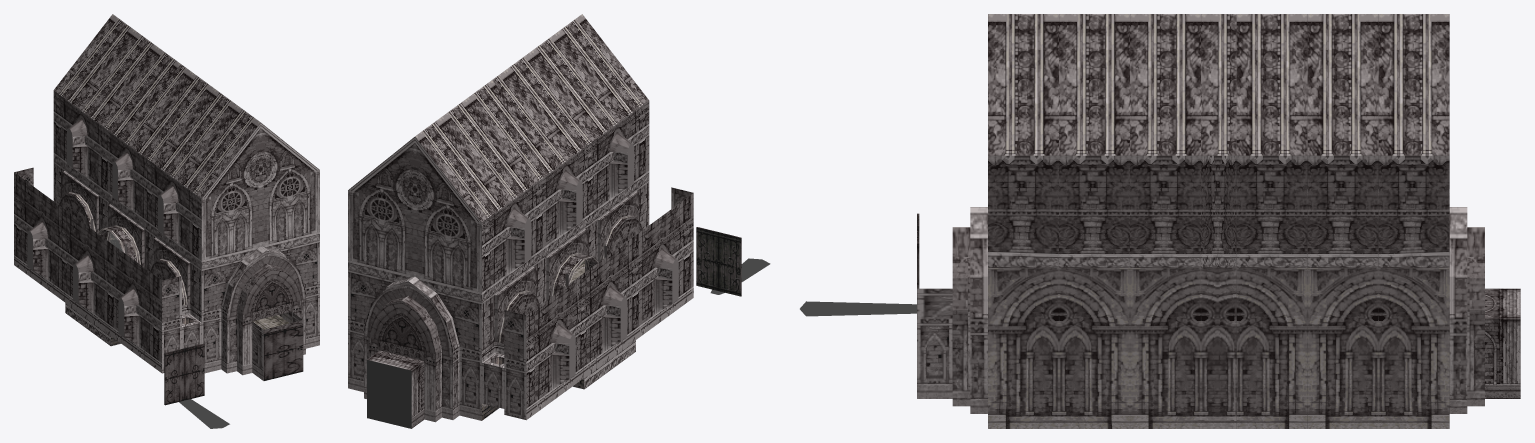
The model's file is MAP104.obj.
3 views of the same model, side by side, from view 1: azimuth 30°, elevation 25°; view 2: azimuth 150°, elevation 25°; view 3: azimuth 270°, elevation 25° (orthographic). The views are drawn at different scales.
Visible parts, largest first — view 1: mesh_23, mesh_18, mesh_25, mesh_26, mesh_24, mesh_19, mesh_28, mesh_35, mesh_33, mesh_15, mesh_16, mesh_49 (+1 smaller); view 2: mesh_23, mesh_18, mesh_25, mesh_26, mesh_24, mesh_19, mesh_28, mesh_38, mesh_35, mesh_33, mesh_13, mesh_14 (+3 smaller); view 3: mesh_30, mesh_18, mesh_31, mesh_35, mesh_36, mesh_25, mesh_37, mesh_49, mesh_48.
Boxes of the visible parts, <box> form: mesh_23: <box>14,91,201,362</box>; mesh_18: <box>53,14,260,198</box>; mesh_25: <box>14,167,319,380</box>; mesh_26: <box>201,170,319,260</box>; mesh_24: <box>53,163,201,322</box>; mesh_19: <box>202,122,319,198</box>; mesh_28: <box>14,128,200,372</box>; mesh_35: <box>221,246,285,374</box>; mesh_33: <box>66,192,187,305</box>; mesh_15: <box>185,344,204,400</box>; mesh_16: <box>165,349,184,405</box>; mesh_49: <box>179,399,229,428</box>; mesh_23: <box>482,100,693,408</box>; mesh_18: <box>415,14,648,222</box>; mesh_25: <box>348,187,693,422</box>; mesh_26: <box>348,190,481,292</box>; mesh_24: <box>482,182,649,362</box>; mesh_19: <box>348,137,481,222</box>; mesh_28: <box>482,143,693,419</box>; mesh_38: <box>367,360,411,428</box>; mesh_35: <box>386,276,459,421</box>; mesh_33: <box>497,215,634,343</box>; mesh_13: <box>696,227,718,290</box>; mesh_14: <box>718,233,740,296</box>; mesh_30: <box>988,268,1449,428</box>; mesh_18: <box>988,14,1449,155</box>; mesh_31: <box>988,155,1449,267</box>; mesh_35: <box>952,207,1484,413</box>; mesh_36: <box>1201,268,1236,428</box>; mesh_25: <box>917,288,952,398</box>; mesh_37: <box>1485,318,1520,398</box>; mesh_49: <box>800,301,916,316</box>; mesh_48: <box>1485,288,1520,318</box>.
Bounding box in the file's own units: 115 × 147 × 260.
Materials: 21 (21 with a texture image).
